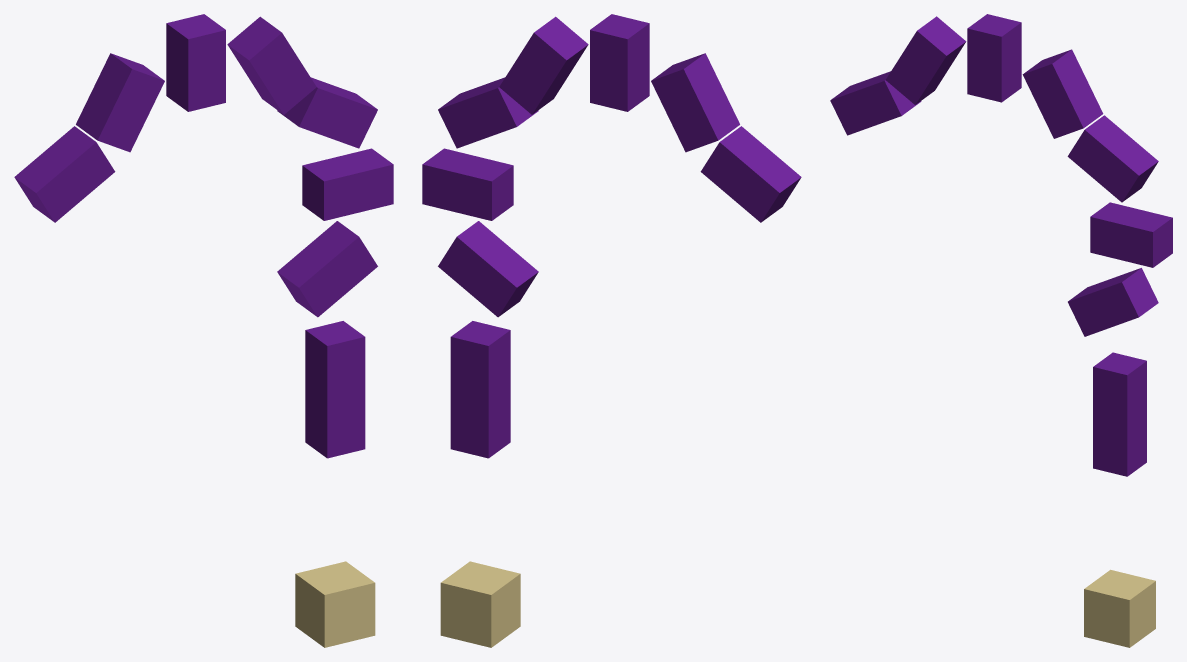
File: placeholder_question.obj
3 renders of one model, left to right at view 1: azimuth 30°, elevation 25°; view 2: azimuth 150°, elevation 25°; view 3: azimuth 330°, elevation 25°, orthographic. The views are drawn at different scales.
Visible parts, largest first — view 1: QuestionStem.001_MAT_PlaceholderViolet, QuestionDot.001_MAT_PlaceholderPale, QuestionArc_00.001_MAT_PlaceholderViolet, QuestionArc_06.001_MAT_PlaceholderViolet, QuestionArc_01.001_MAT_PlaceholderViolet, QuestionArc_02.001_MAT_PlaceholderViolet, QuestionArc_05.001_MAT_PlaceholderViolet, QuestionArc_03.001_MAT_PlaceholderViolet, QuestionArc_04.001_MAT_PlaceholderViolet; view 2: QuestionStem.001_MAT_PlaceholderViolet, QuestionDot.001_MAT_PlaceholderPale, QuestionArc_00.001_MAT_PlaceholderViolet, QuestionArc_06.001_MAT_PlaceholderViolet, QuestionArc_01.001_MAT_PlaceholderViolet, QuestionArc_02.001_MAT_PlaceholderViolet, QuestionArc_05.001_MAT_PlaceholderViolet, QuestionArc_03.001_MAT_PlaceholderViolet, QuestionArc_04.001_MAT_PlaceholderViolet; view 3: QuestionStem.001_MAT_PlaceholderViolet, QuestionDot.001_MAT_PlaceholderPale, QuestionArc_02.001_MAT_PlaceholderViolet, QuestionArc_04.001_MAT_PlaceholderViolet, QuestionArc_03.001_MAT_PlaceholderViolet, QuestionArc_05.001_MAT_PlaceholderViolet, QuestionArc_01.001_MAT_PlaceholderViolet, QuestionArc_06.001_MAT_PlaceholderViolet, QuestionArc_00.001_MAT_PlaceholderViolet.
Boxes of the visible parts, box(x1,y1,x2,y2) form: QuestionStem.001_MAT_PlaceholderViolet: box(305, 321, 365, 458); QuestionDot.001_MAT_PlaceholderPale: box(295, 561, 375, 647); QuestionArc_00.001_MAT_PlaceholderViolet: box(14, 126, 115, 222); QuestionArc_06.001_MAT_PlaceholderViolet: box(277, 221, 377, 317); QuestionArc_01.001_MAT_PlaceholderViolet: box(76, 53, 164, 152); QuestionArc_02.001_MAT_PlaceholderViolet: box(166, 14, 225, 111); QuestionArc_05.001_MAT_PlaceholderViolet: box(302, 148, 393, 220); QuestionArc_03.001_MAT_PlaceholderViolet: box(227, 16, 316, 114); QuestionArc_04.001_MAT_PlaceholderViolet: box(277, 77, 377, 148); QuestionStem.001_MAT_PlaceholderViolet: box(450, 321, 510, 458); QuestionDot.001_MAT_PlaceholderPale: box(440, 561, 520, 647); QuestionArc_00.001_MAT_PlaceholderViolet: box(700, 126, 801, 222); QuestionArc_06.001_MAT_PlaceholderViolet: box(438, 221, 538, 317); QuestionArc_01.001_MAT_PlaceholderViolet: box(651, 53, 739, 152); QuestionArc_02.001_MAT_PlaceholderViolet: box(590, 14, 649, 111); QuestionArc_05.001_MAT_PlaceholderViolet: box(422, 148, 513, 220); QuestionArc_03.001_MAT_PlaceholderViolet: box(499, 16, 588, 114); QuestionArc_04.001_MAT_PlaceholderViolet: box(438, 77, 538, 148); QuestionStem.001_MAT_PlaceholderViolet: box(1093, 352, 1146, 476); QuestionDot.001_MAT_PlaceholderPale: box(1084, 569, 1155, 647); QuestionArc_02.001_MAT_PlaceholderViolet: box(967, 14, 1021, 102); QuestionArc_04.001_MAT_PlaceholderViolet: box(1067, 115, 1158, 202); QuestionArc_03.001_MAT_PlaceholderViolet: box(1022, 49, 1103, 138); QuestionArc_05.001_MAT_PlaceholderViolet: box(1090, 202, 1172, 267); QuestionArc_01.001_MAT_PlaceholderViolet: box(886, 16, 966, 104); QuestionArc_06.001_MAT_PlaceholderViolet: box(1068, 268, 1158, 336); QuestionArc_00.001_MAT_PlaceholderViolet: box(830, 71, 921, 135).
Size of the model in its own units: 1.13 by 1.93 by 0.16.
